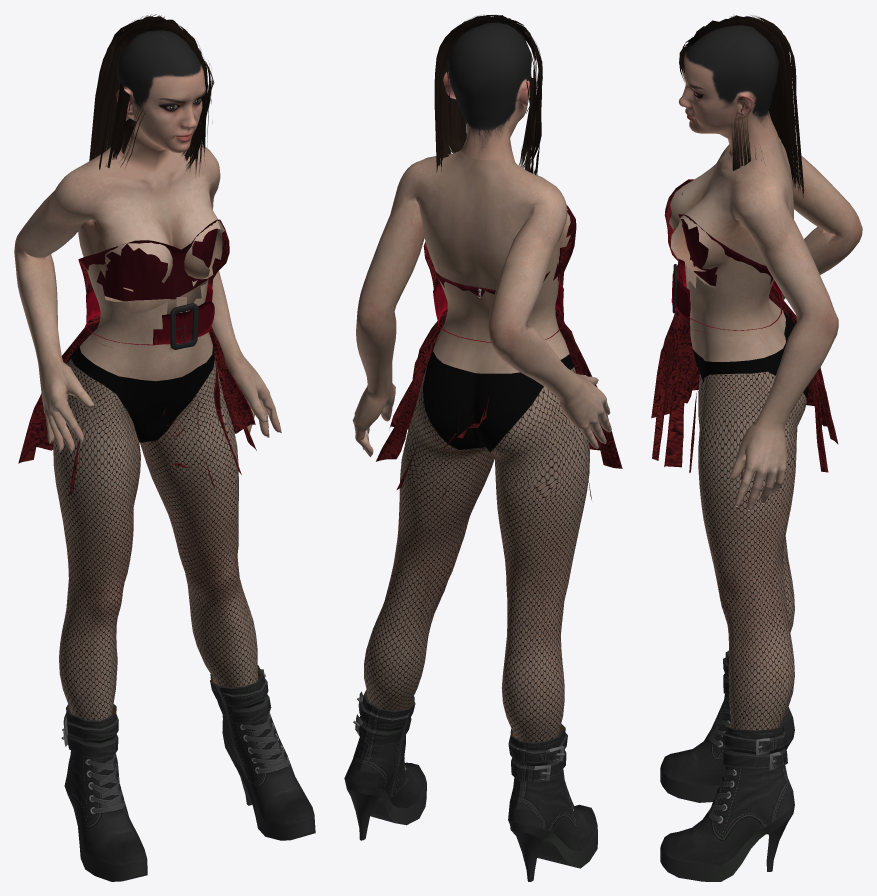
File: assistant_-_night_out_outfit.glb
The picture shows the model from 3 angles, left to right: view 1: azimuth 30°, elevation 25°; view 2: azimuth 150°, elevation 25°; view 3: azimuth 270°, elevation 25°; orthographic projection. The views are drawn at different scales.
Visible parts, largest first — view 1: Object_4, Object_8, Object_2, Object_6, Object_5, Object_3, Object_7; view 2: Object_4, Object_2, Object_6, Object_5, Object_7, Object_8, Object_3; view 3: Object_4, Object_5, Object_2, Object_8, Object_3, Object_6, Object_7.
Boxes of the visible parts, x1=… form: Object_4: x1=14, y1=145, x2=281, y2=720; Object_8: x1=18, y1=219, x2=256, y2=495; Object_2: x1=116, y1=30, x2=205, y2=171; Object_6: x1=61, y1=704, x2=147, y2=881; Object_5: x1=210, y1=665, x2=315, y2=840; Object_3: x1=89, y1=14, x2=214, y2=174; Object_7: x1=66, y1=344, x2=214, y2=442; Object_4: x1=352, y1=150, x2=611, y2=742; Object_2: x1=443, y1=22, x2=531, y2=162; Object_6: x1=508, y1=723, x2=597, y2=881; Object_5: x1=344, y1=689, x2=426, y2=840; Object_7: x1=423, y1=347, x2=574, y2=452; Object_8: x1=376, y1=205, x2=622, y2=506; Object_3: x1=434, y1=14, x2=542, y2=175; Object_4: x1=669, y1=133, x2=862, y2=730; Object_5: x1=660, y1=723, x2=794, y2=881; Object_2: x1=679, y1=25, x2=779, y2=158; Object_8: x1=651, y1=179, x2=838, y2=479; Object_3: x1=679, y1=15, x2=804, y2=197; Object_6: x1=660, y1=650, x2=794, y2=802; Object_7: x1=693, y1=311, x2=807, y2=402.
Bounding box in the file's own units: 0.5562 × 1.78 × 0.4235.
7 materials, 6 textured.
